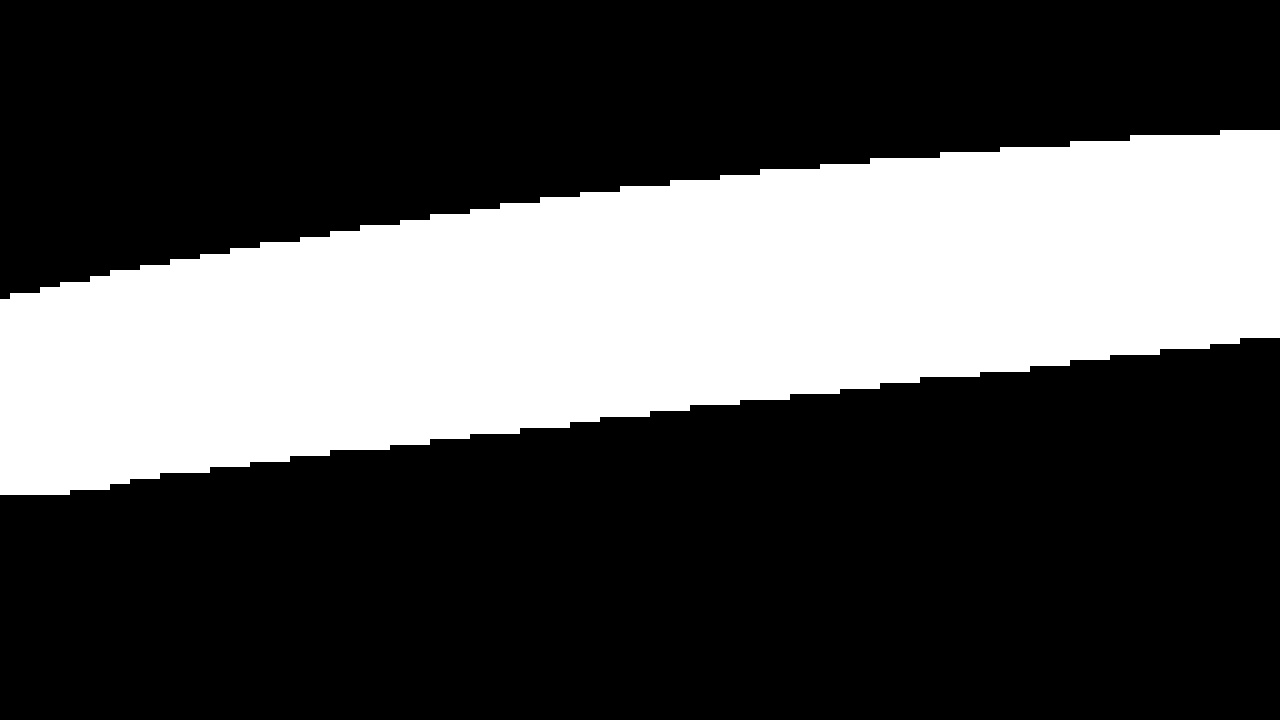Turbine: (8, 108, 1266, 518)
